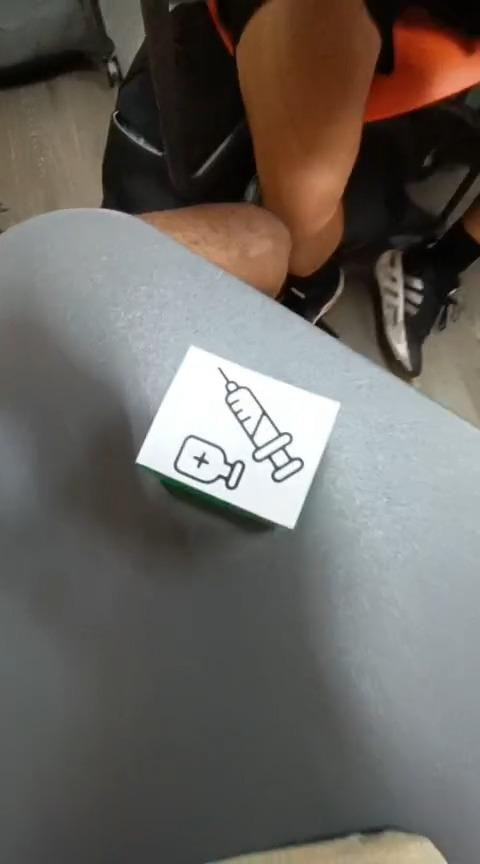antiseptic cream: (133, 343, 341, 530)
